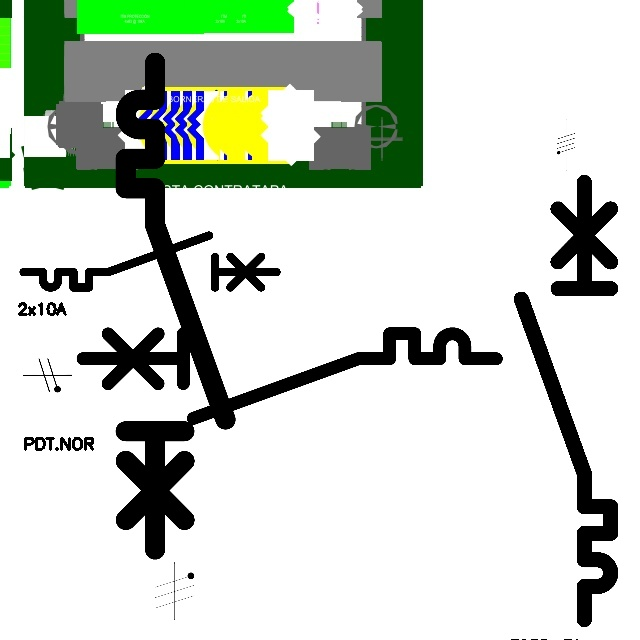interruptor_termomagnetico: (113, 50, 238, 562), (510, 171, 622, 631), (72, 323, 507, 429), (17, 229, 283, 294)
